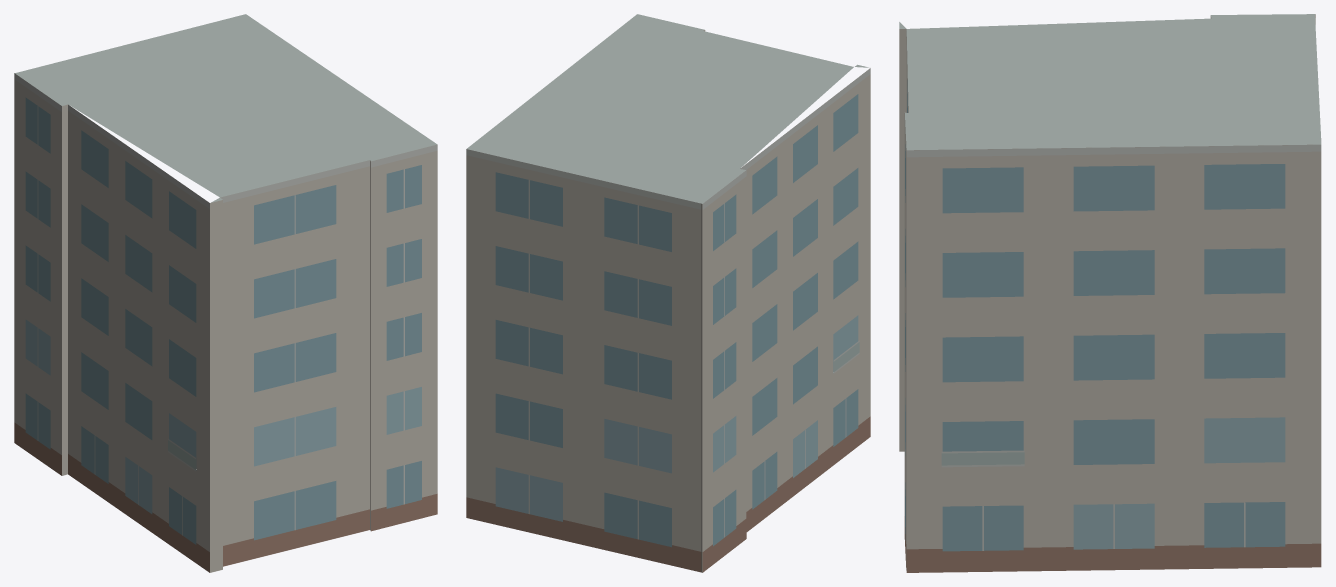
File: survey-upis-32569964.glb
3 views of the same model, side by side, from view 1: azimuth 30°, elevation 25°; view 2: azimuth 150°, elevation 25°; view 3: azimuth 270°, elevation 25° (orthographic). The views are drawn at different scales.
Parts seen in each view (by area): view 1: survey-upis-32569964.tmp; view 2: survey-upis-32569964.tmp; view 3: survey-upis-32569964.tmp.
Boxes of the visible parts, <box> form: survey-upis-32569964.tmp: <box>14,14,437,572</box>; survey-upis-32569964.tmp: <box>466,14,870,572</box>; survey-upis-32569964.tmp: <box>899,14,1321,572</box>.
Size of the model in its own units: 10.05 by 14.53 by 13.16.
